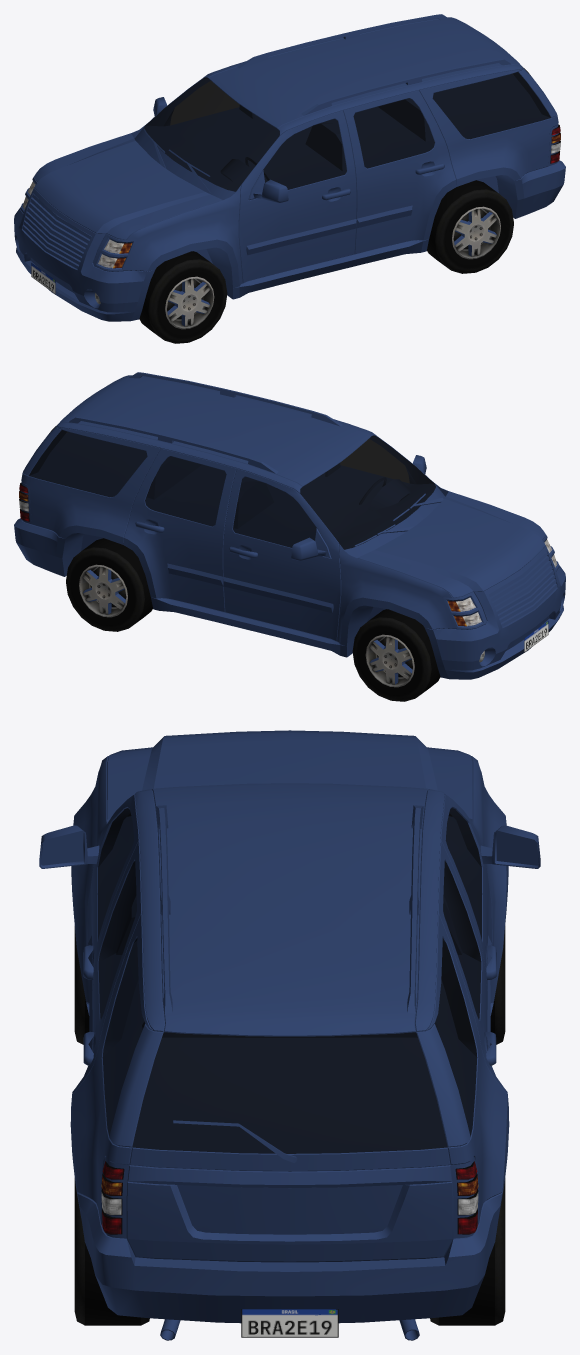
The model's file is carro_suv.glb.
The picture shows the model from 3 angles, top to bottom: view 1: azimuth 30°, elevation 25°; view 2: azimuth 150°, elevation 25°; view 3: azimuth 270°, elevation 25°; orthographic projection. The views are drawn at different scales.
Visible parts, largest first — view 1: Carroceria, Roda_TE, Roda_DE; view 2: Carroceria, Roda_TD, Roda_DD; view 3: Carroceria, Roda_TD, Roda_TE, object 7, Roda_DD, Roda_DE.
Boxes of the visible parts, x1,y1,x2,y2 form: Carroceria: [14, 14, 565, 321]; Roda_TE: [427, 180, 513, 273]; Roda_DE: [139, 251, 227, 343]; Carroceria: [14, 372, 565, 679]; Roda_TD: [66, 538, 152, 631]; Roda_DD: [352, 609, 440, 701]; Carroceria: [39, 730, 540, 1340]; Roda_TD: [430, 1178, 505, 1325]; Roda_TE: [74, 1178, 149, 1325]; object 7: [241, 1309, 338, 1337]; Roda_DD: [490, 926, 505, 1045]; Roda_DE: [74, 926, 89, 1045].
Bounding box in the file's own units: 4.64 × 1.73 × 2.07.
Materials: 9 (3 with a texture image).
